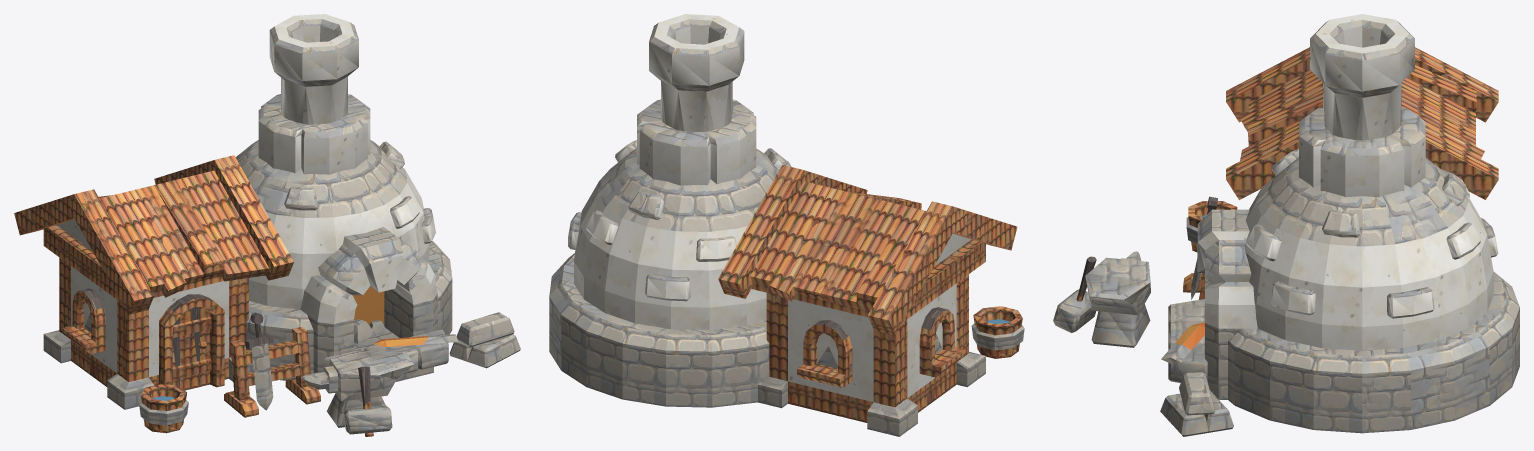
File: building_blacksmith_red.gltf
3 renders of one model, left to right at view 1: azimuth 30°, elevation 25°; view 2: azimuth 150°, elevation 25°; view 3: azimuth 270°, elevation 25°, orthographic. The views are drawn at different scales.
Parts seen in each view (by area): view 1: building_blacksmith_red; view 2: building_blacksmith_red; view 3: building_blacksmith_red.
Part boxes in pixels (bbox=[...]): building_blacksmith_red: bbox=[14, 14, 520, 436]; building_blacksmith_red: bbox=[549, 14, 1024, 436]; building_blacksmith_red: bbox=[1053, 14, 1519, 436].
Bounding box in the file's own units: 1.29 × 0.9851 × 1.25.
11 materials, 4 textured.
